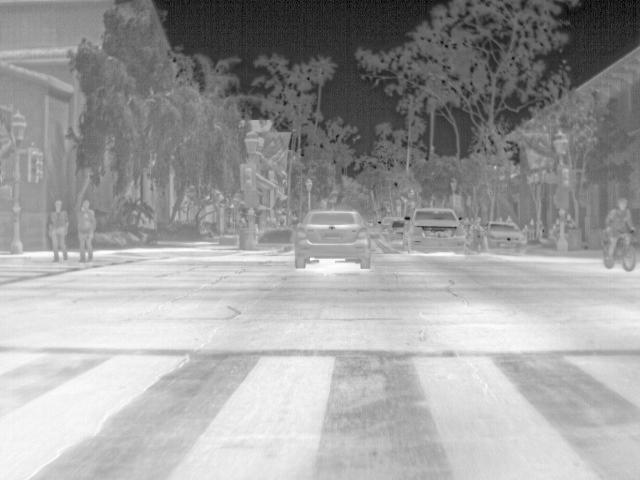car: (295, 209, 371, 268), (405, 208, 466, 252), (485, 220, 528, 252), (381, 219, 405, 243), (379, 214, 404, 232)
person: (605, 198, 638, 267), (47, 198, 70, 262), (77, 198, 97, 260), (467, 217, 486, 237), (564, 214, 580, 230), (527, 217, 537, 242), (550, 216, 563, 234)
